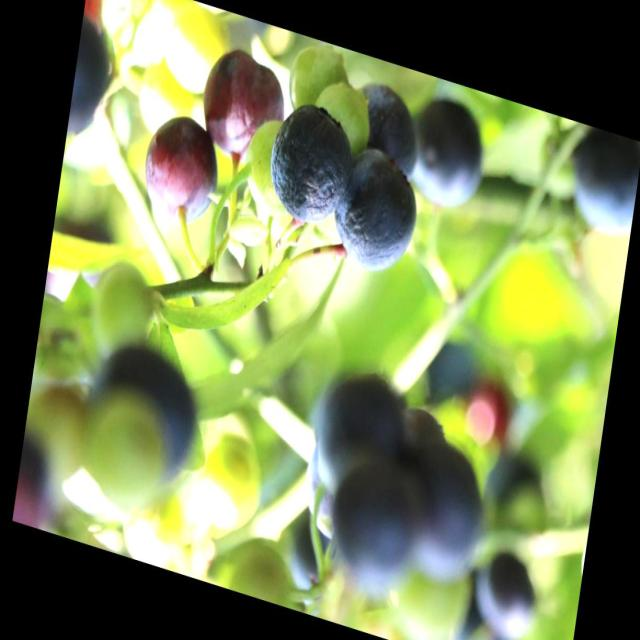blueberry: (309, 357, 405, 507), (328, 141, 426, 286), (262, 90, 358, 236), (402, 438, 492, 581), (324, 459, 418, 592), (404, 88, 486, 218), (564, 125, 640, 236), (350, 73, 428, 177), (474, 549, 542, 634)
blueberry-halfripe: (196, 39, 293, 169), (137, 103, 223, 234)
blueberry-unripe: (84, 382, 172, 522), (193, 424, 270, 543), (88, 260, 156, 366), (238, 118, 294, 218)
